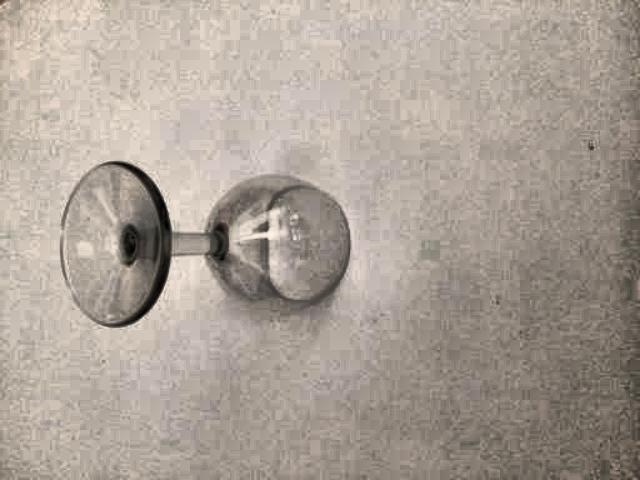Almennt: (43, 127, 391, 345)
